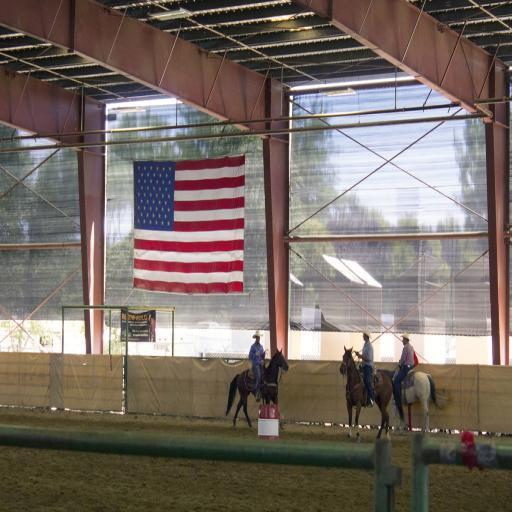horse: (338, 346, 406, 443), (226, 346, 288, 434), (375, 370, 446, 434)
